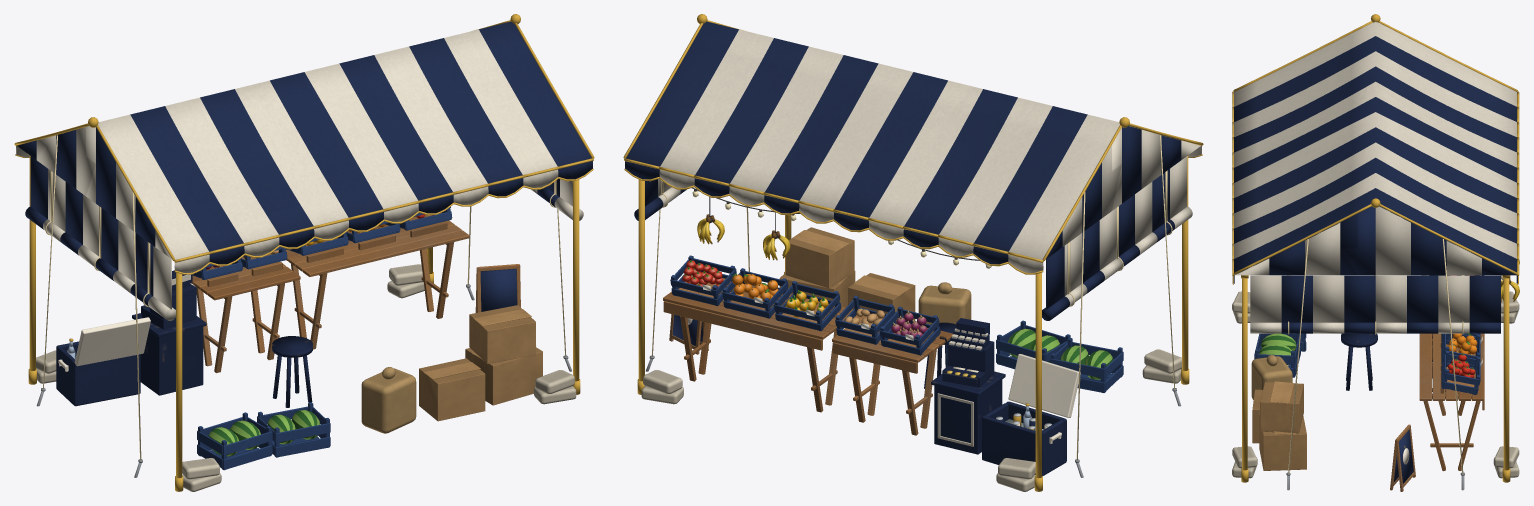
File: Era1_Tenda.fbx
3 renders of one model, left to right at view 1: azimuth 30°, elevation 25°; view 2: azimuth 150°, elevation 25°; view 3: azimuth 270°, elevation 25°, orthographic. The views are drawn at different scales.
Visible parts, largest first — view 1: ERA1_Tent, ERA1_Stock, ERA1_Counter, ERA1_Cooler, ERA1_Register, ERA1_Produce, ERA1_Sign; view 2: ERA1_Tent, ERA1_Stock, ERA1_Produce, ERA1_Counter, ERA1_Cooler, ERA1_Register, ERA1_Sign; view 3: ERA1_Tent, ERA1_Stock, ERA1_Counter, ERA1_Produce, ERA1_Sign.
Boxes of the visible parts, x1,y1,x2,y2 form: ERA1_Tent: [14, 14, 594, 491]; ERA1_Stock: [197, 305, 542, 470]; ERA1_Counter: [190, 220, 469, 373]; ERA1_Cooler: [56, 317, 150, 406]; ERA1_Register: [132, 270, 206, 395]; ERA1_Produce: [192, 207, 452, 287]; ERA1_Sign: [475, 264, 520, 312]; ERA1_Tent: [623, 14, 1203, 491]; ERA1_Stock: [779, 227, 1123, 392]; ERA1_Produce: [670, 197, 940, 355]; ERA1_Counter: [663, 281, 953, 435]; ERA1_Cooler: [982, 354, 1080, 475]; ERA1_Register: [931, 318, 1005, 454]; ERA1_Sign: [669, 314, 708, 354]; ERA1_Tent: [1232, 14, 1519, 490]; ERA1_Stock: [1251, 333, 1377, 470]; ERA1_Counter: [1419, 333, 1484, 471]; ERA1_Produce: [1440, 260, 1519, 394]; ERA1_Sign: [1390, 424, 1415, 491].
Bounding box in the file's own units: 4.24 × 2.92 × 2.64.
Materials: 1 (1 with a texture image).
